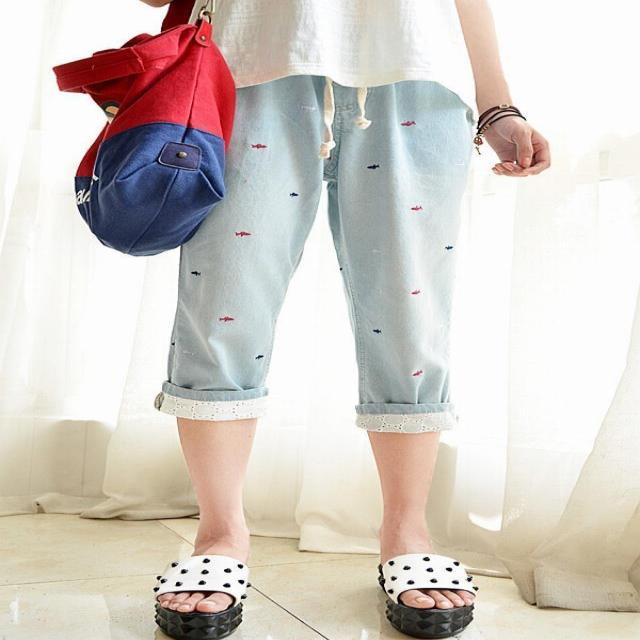trousers: (180, 62, 524, 459)
